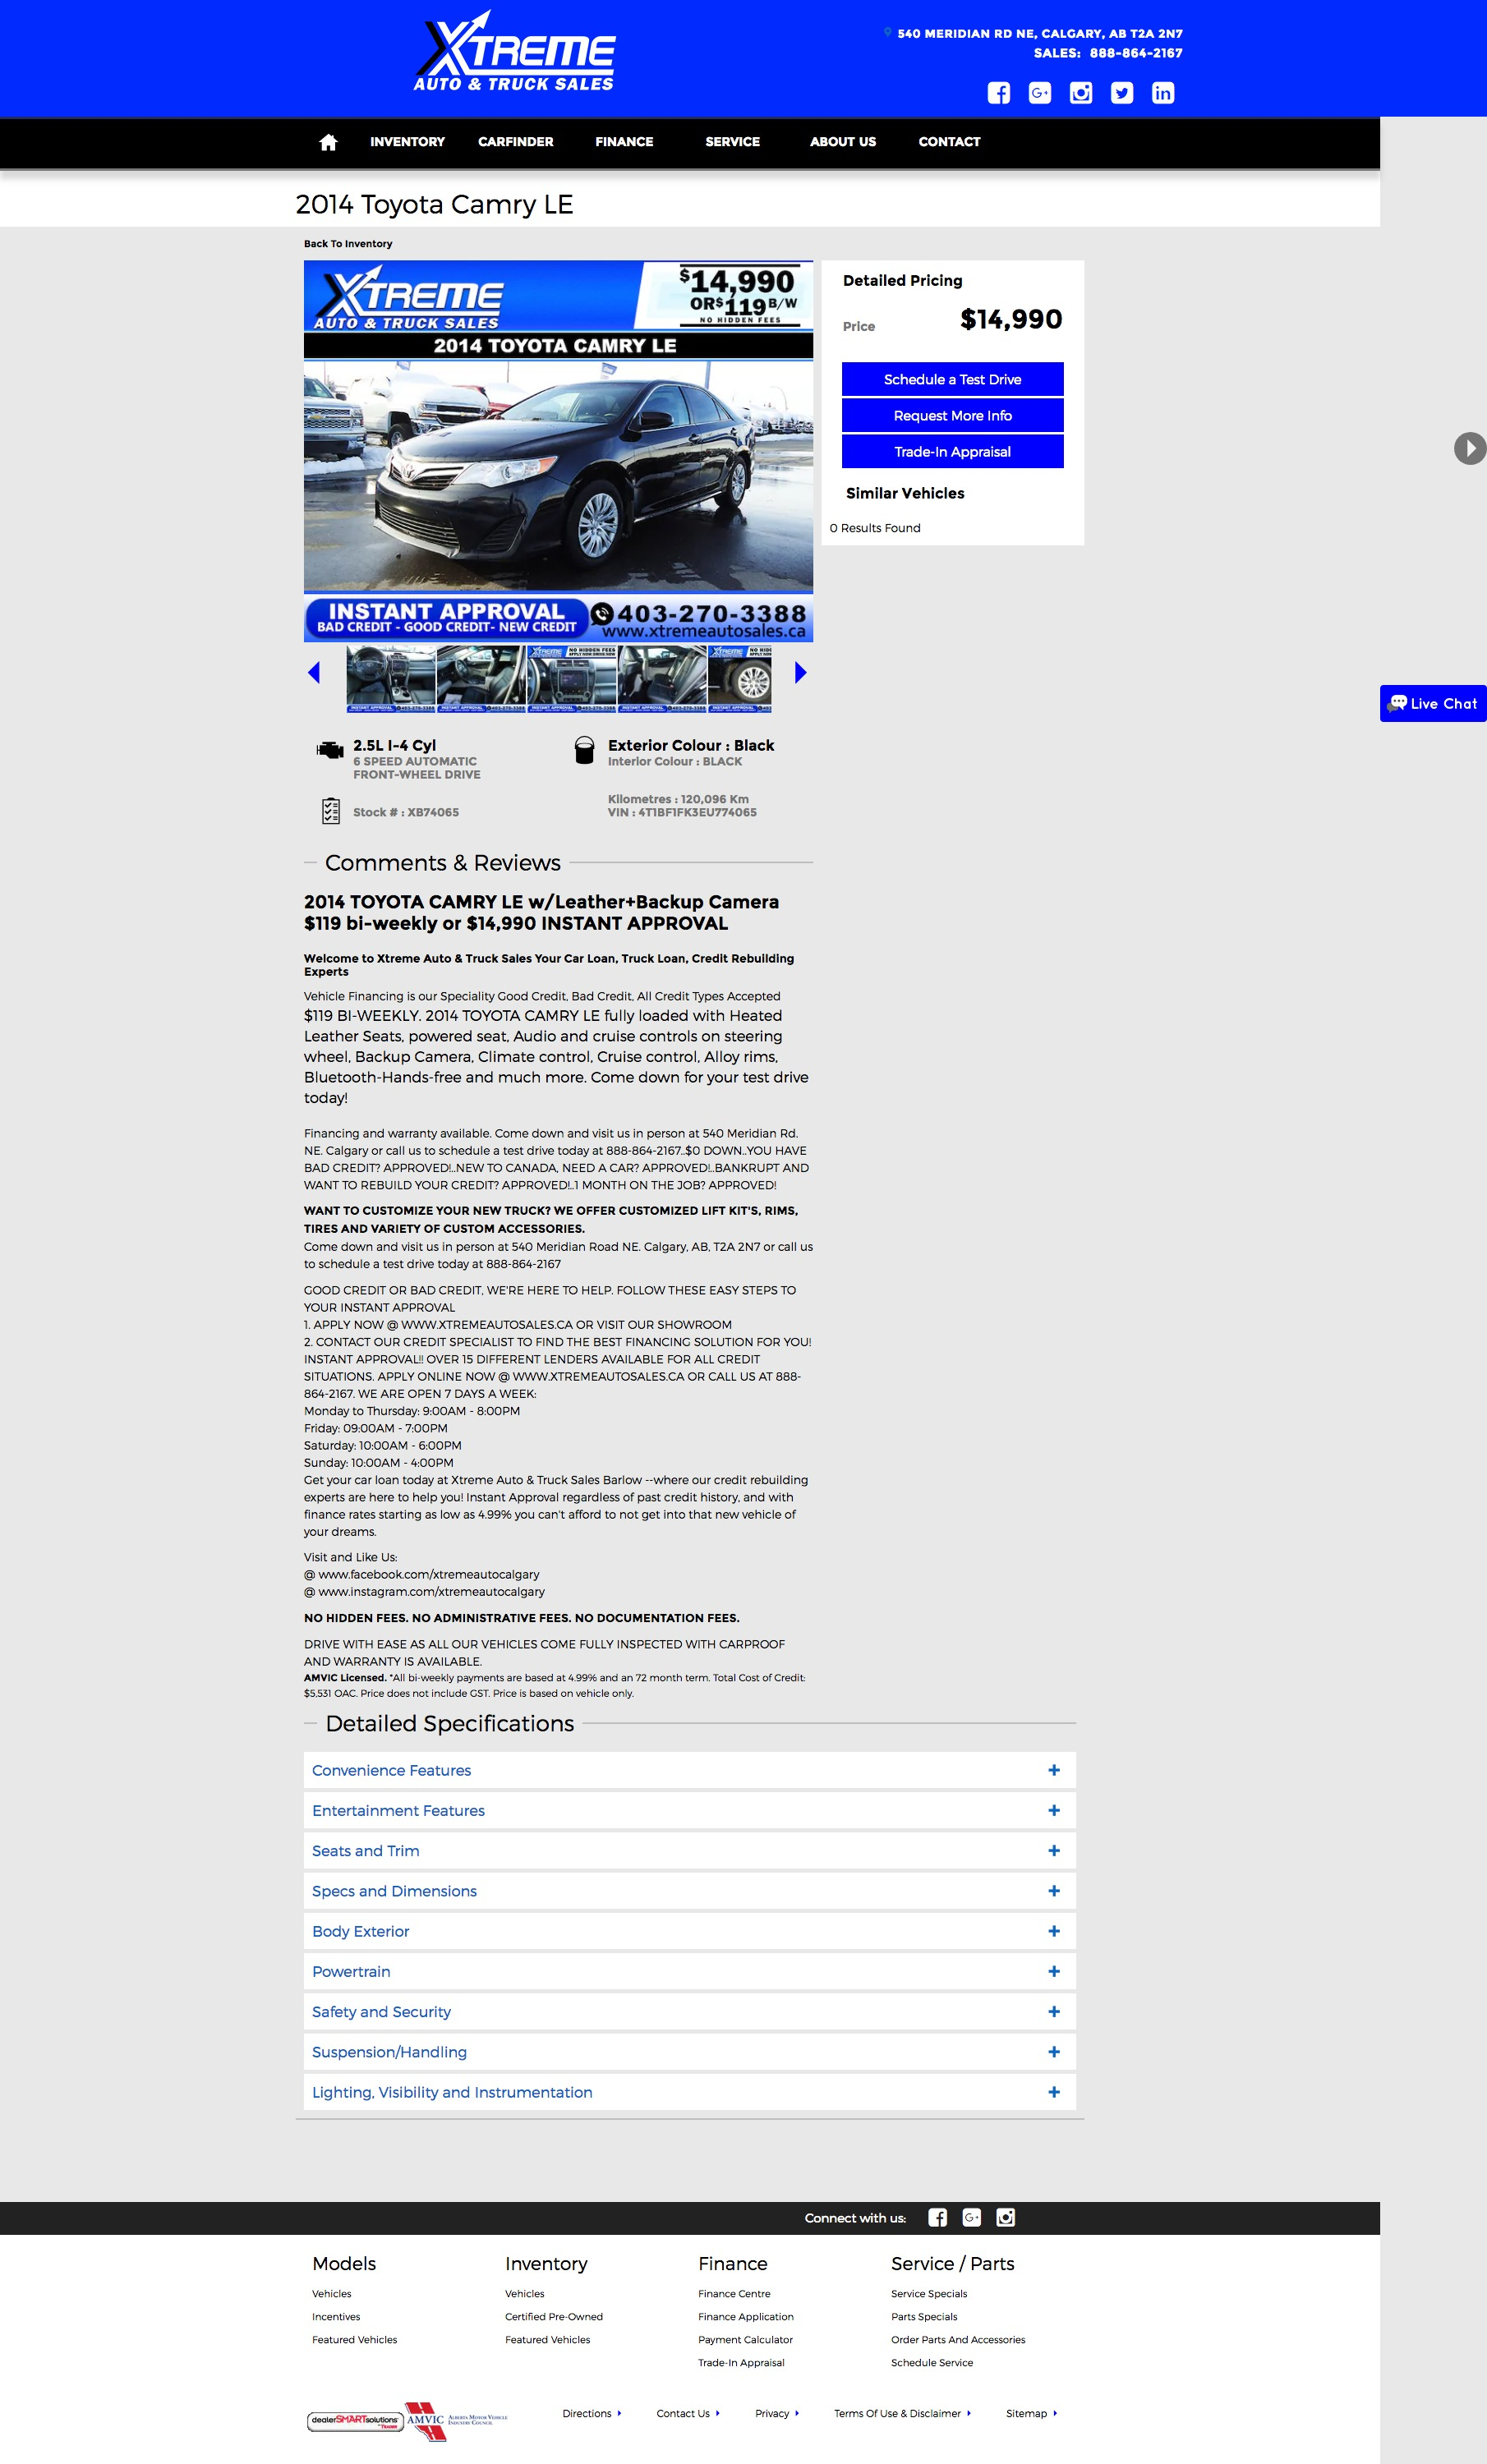car: (794, 660, 808, 685)
